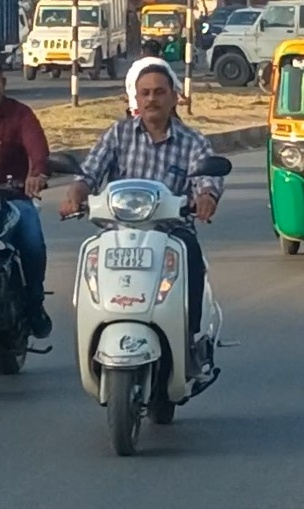BikeWithRider: (45, 63, 244, 460)
NoHelmet: (127, 64, 183, 124)
